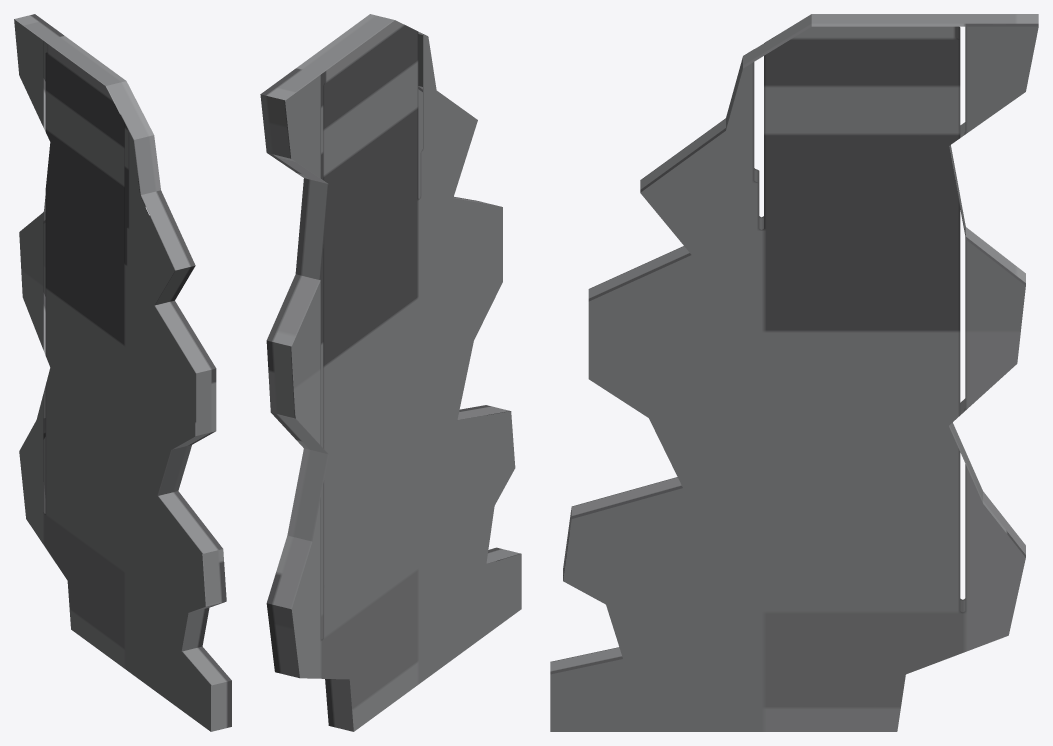
The picture shows the model from 3 angles, left to right: view 1: azimuth 30°, elevation 25°; view 2: azimuth 150°, elevation 25°; view 3: azimuth 270°, elevation 25°; orthographic projection. The views are drawn at different scales.
Size of the model in its own units: 0.035 by 0.908 by 0.57.
